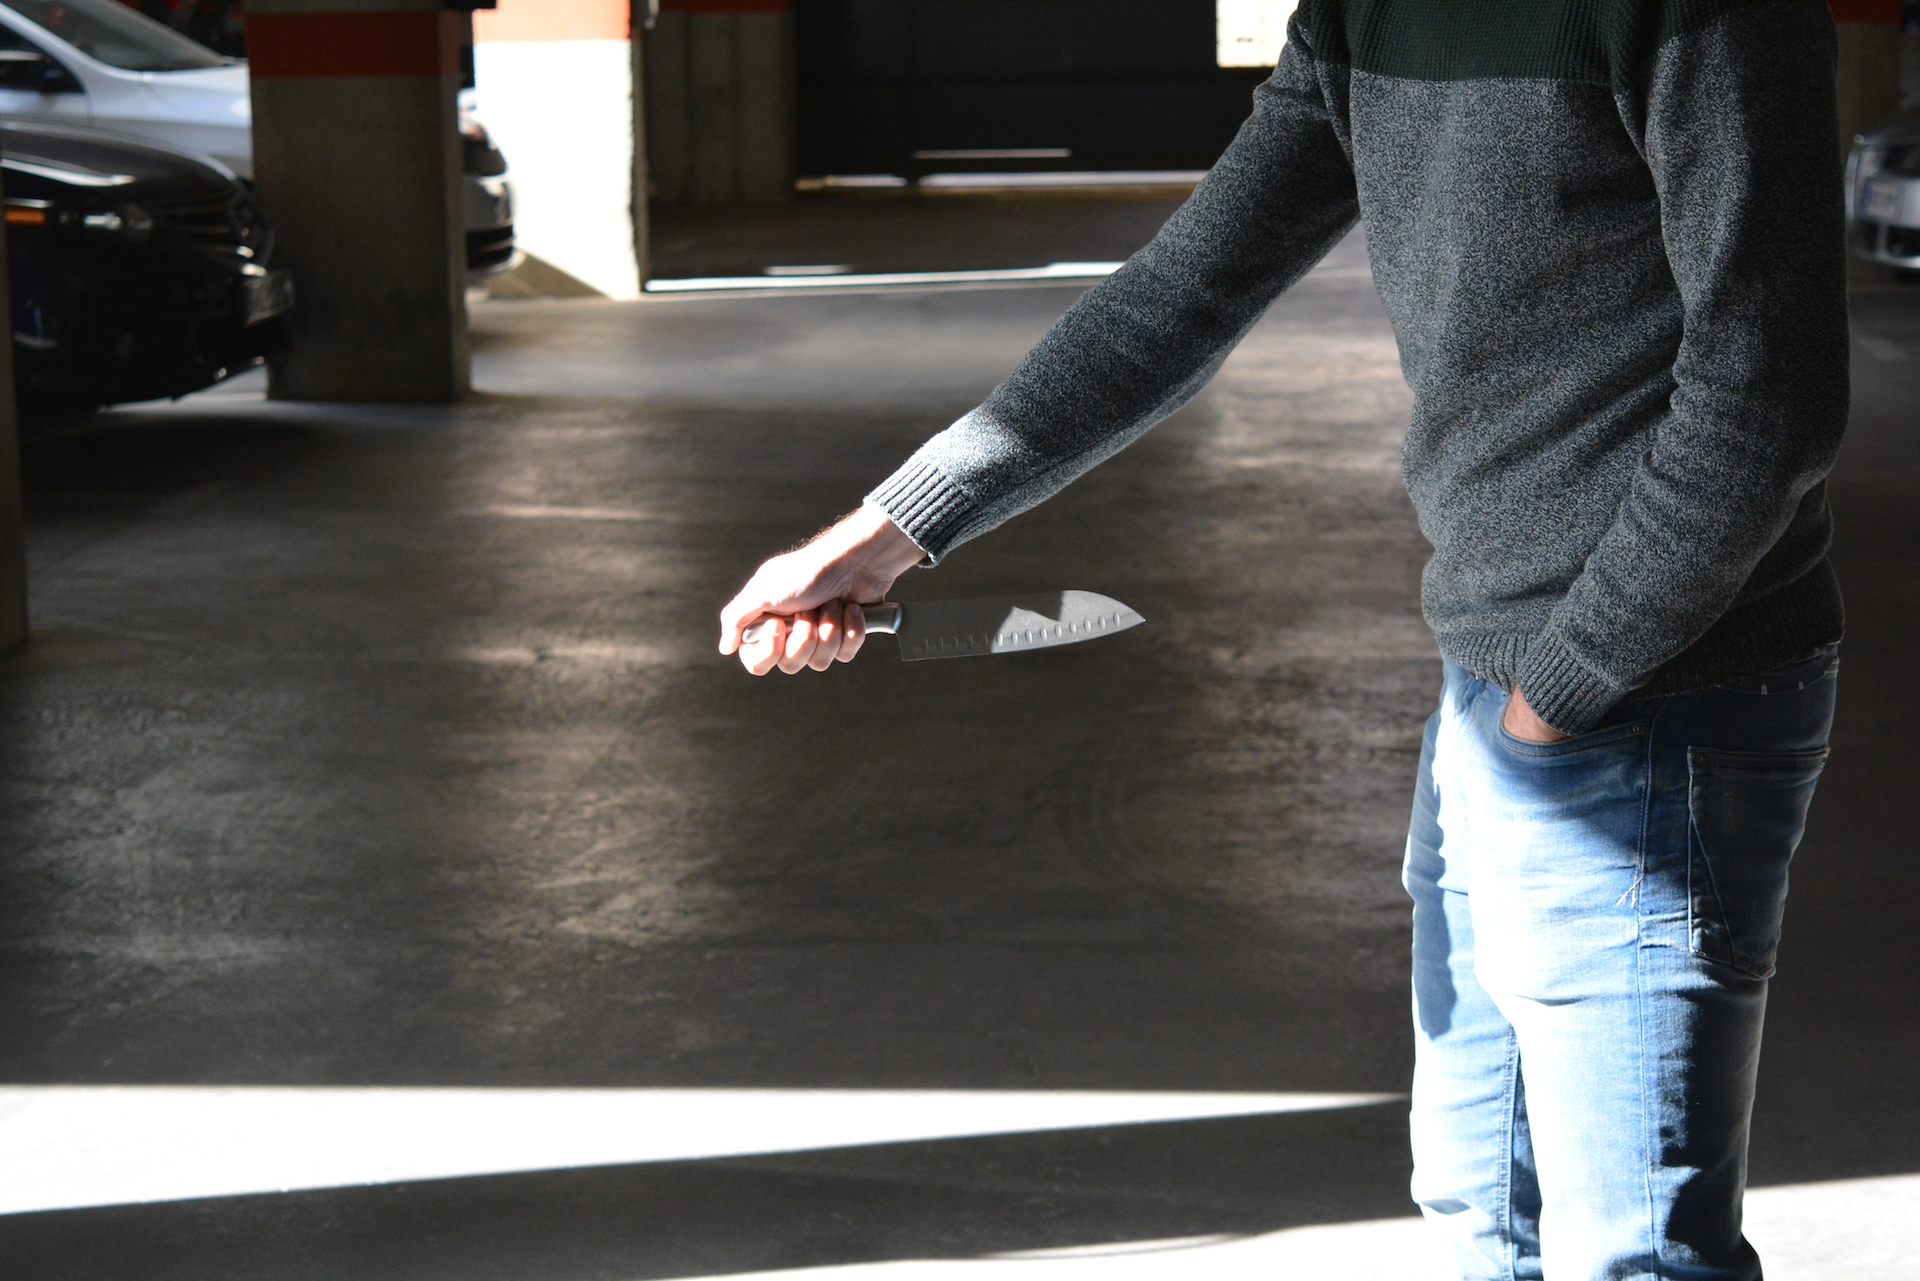knife: (733, 563, 1157, 681)
